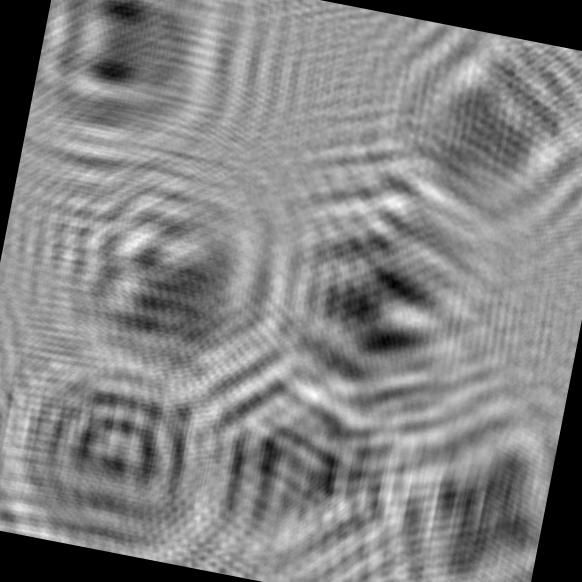D: (0, 321, 270, 575)
E: (21, 0, 251, 188)
K: (33, 119, 327, 416)
T: (356, 15, 582, 259)
W: (234, 125, 542, 460)
X: (343, 370, 565, 582)
Z: (135, 314, 441, 582)
